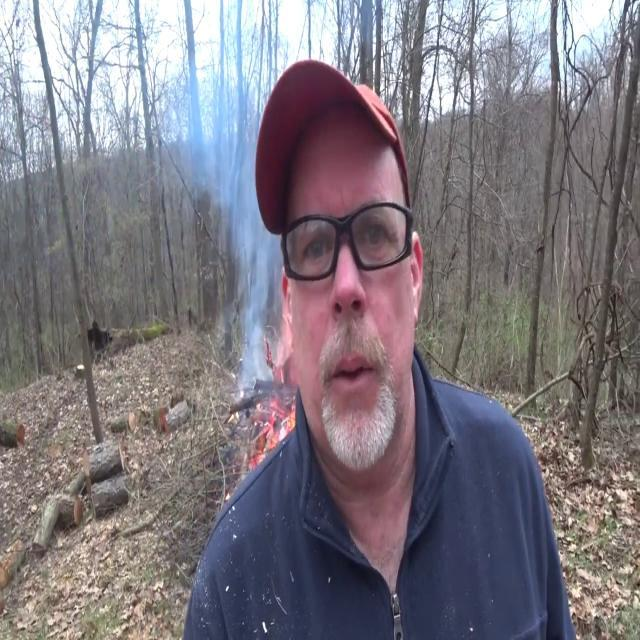Smoke: (188, 13, 285, 388)
